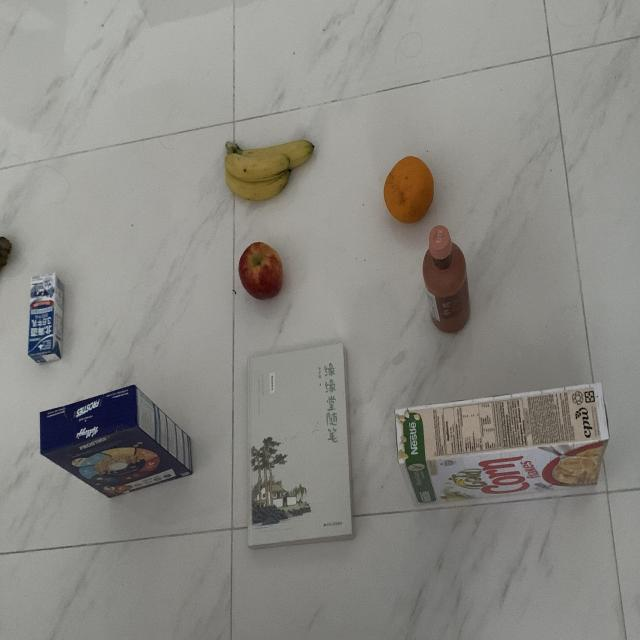Apple: (237, 238, 286, 302)
Banana: (223, 138, 323, 208)
Book: (246, 340, 358, 551)
Cerealbox: (393, 378, 612, 508), (38, 383, 196, 498)
Orange: (383, 155, 437, 227)
